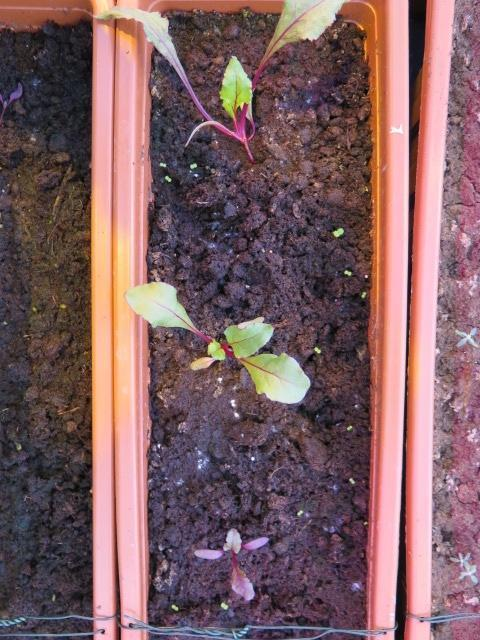weed: (329, 224, 345, 240), (355, 287, 368, 304), (216, 598, 230, 613), (167, 598, 180, 614), (311, 342, 322, 356), (187, 159, 199, 171), (345, 473, 355, 487), (340, 265, 352, 276), (343, 421, 354, 433), (294, 505, 304, 518), (161, 173, 171, 184), (155, 159, 167, 168)
